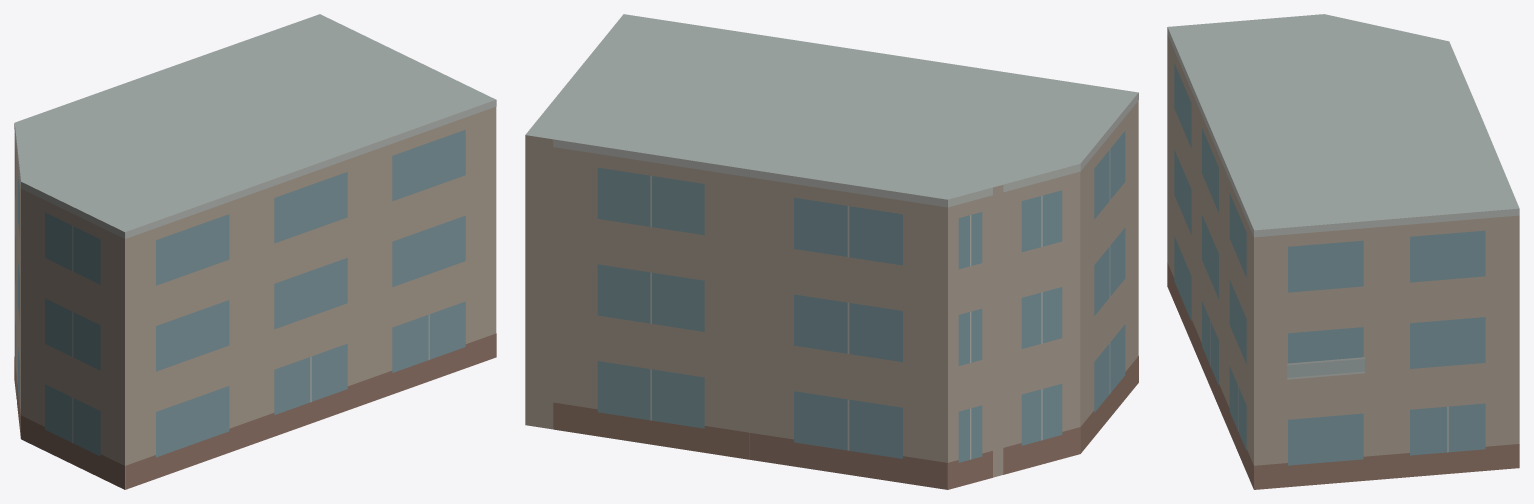
The model's file is survey-upis-33046038.glb.
3 views of the same model, side by side, from view 1: azimuth 30°, elevation 25°; view 2: azimuth 150°, elevation 25°; view 3: azimuth 270°, elevation 25° (orthographic). The views are drawn at different scales.
Parts seen in each view (by area): view 1: survey-upis-33046038.tmp; view 2: survey-upis-33046038.tmp; view 3: survey-upis-33046038.tmp.
Boxes of the visible parts, x1,y1,x2,y2 form: survey-upis-33046038.tmp: (14, 14, 496, 489); survey-upis-33046038.tmp: (525, 14, 1138, 489); survey-upis-33046038.tmp: (1167, 14, 1519, 489).
Bounding box in the file's own units: 16.38 × 9.15 × 11.27.
